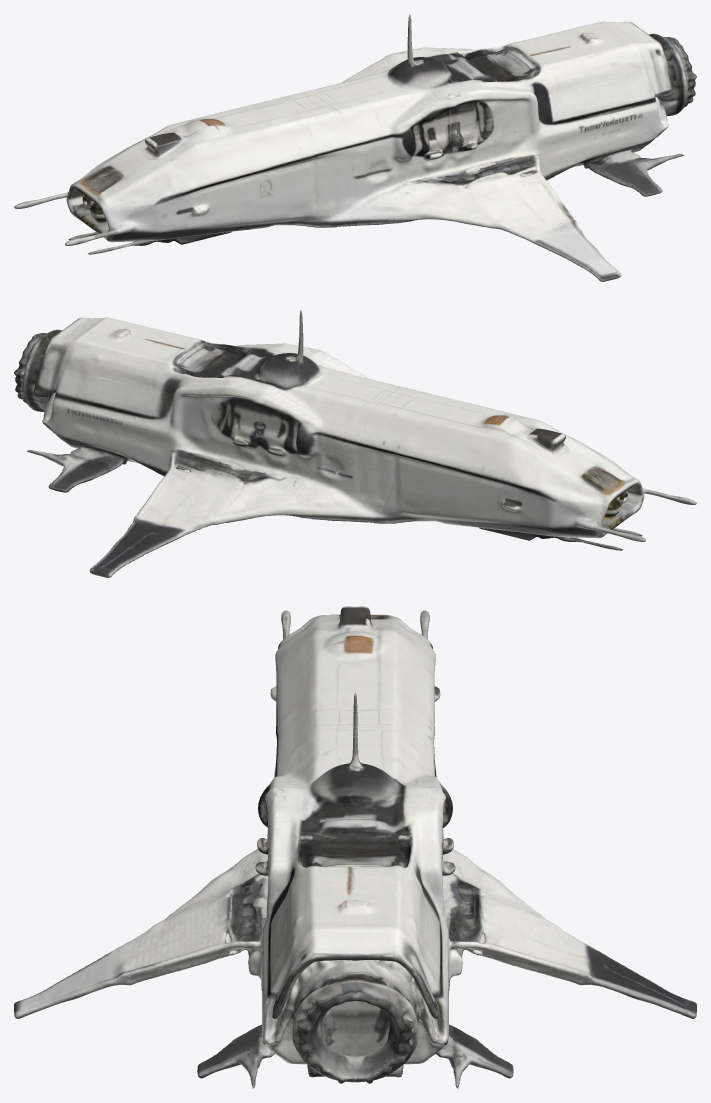
Rendered from glass.glb.
3 renders of one model, top to bottom at view 1: azimuth 30°, elevation 25°; view 2: azimuth 150°, elevation 25°; view 3: azimuth 270°, elevation 25°, orthographic. The views are drawn at different scales.
Size of the model in its own units: 2.02 by 0.5898 by 1.36.
1 material, 1 textured.
